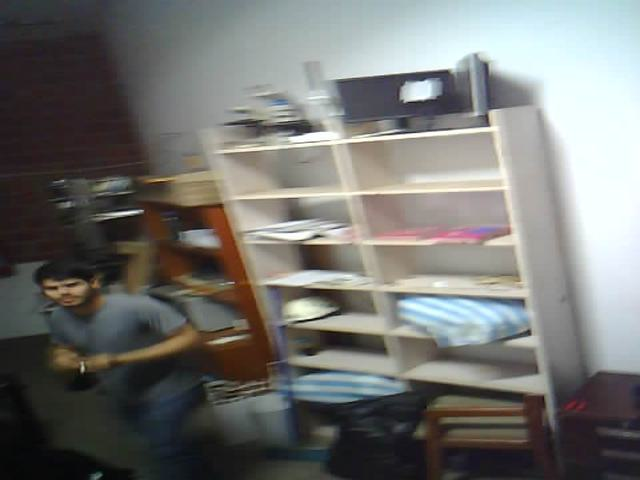person: (14, 240, 239, 480)
